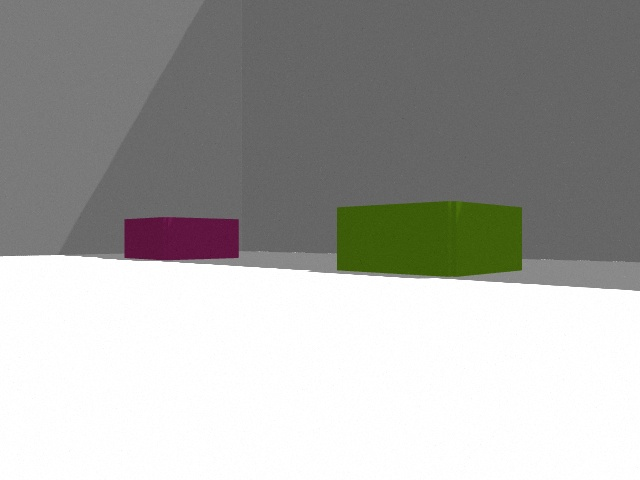green_drop_zone: (337, 201, 522, 277)
red_drop_zone: (124, 217, 239, 260)
